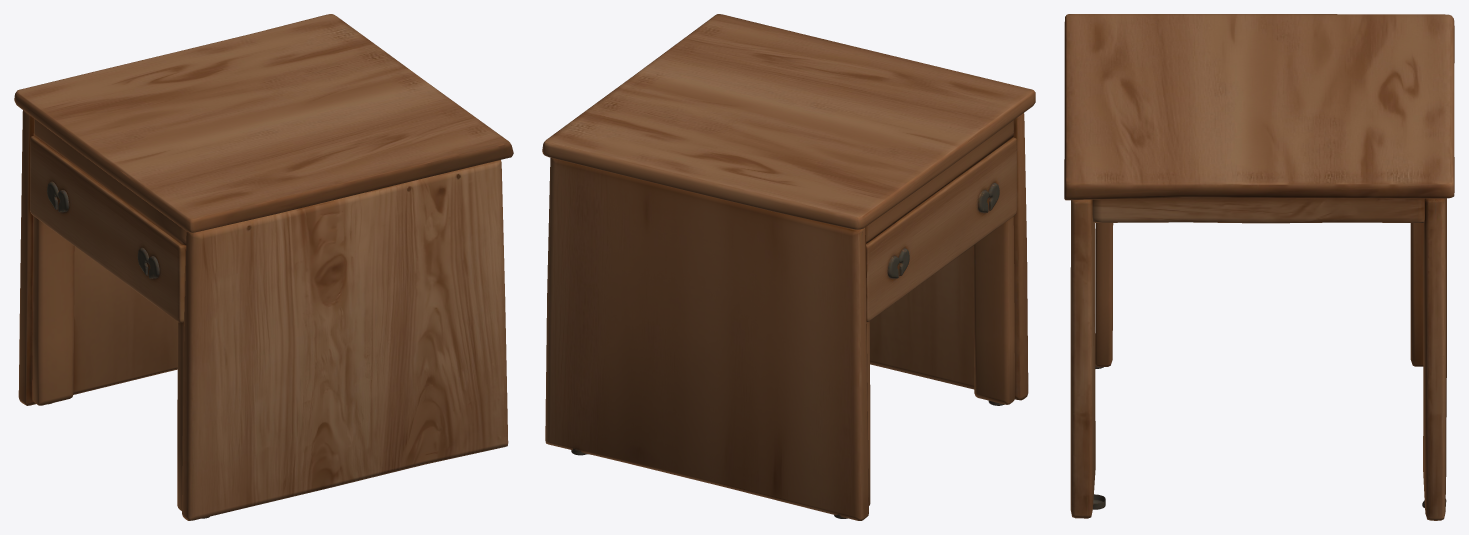
File: side-table.glb
3 renders of one model, left to right at view 1: azimuth 30°, elevation 25°; view 2: azimuth 150°, elevation 25°; view 3: azimuth 270°, elevation 25°, orthographic. The views are drawn at different scales.
Visible parts, largest first — view 1: tripo_node_a572d54e-fefd-48b0-9456-cbbc0abee656; view 2: tripo_node_a572d54e-fefd-48b0-9456-cbbc0abee656; view 3: tripo_node_a572d54e-fefd-48b0-9456-cbbc0abee656.
Part boxes in pixels (<box>): tripo_node_a572d54e-fefd-48b0-9456-cbbc0abee656: <box>14,14,513,520</box>; tripo_node_a572d54e-fefd-48b0-9456-cbbc0abee656: <box>542,14,1035,520</box>; tripo_node_a572d54e-fefd-48b0-9456-cbbc0abee656: <box>1064,14,1454,520</box>.
Size of the model in its own units: 0.9995 by 0.9175 by 0.9546.
1 material, 1 textured.
